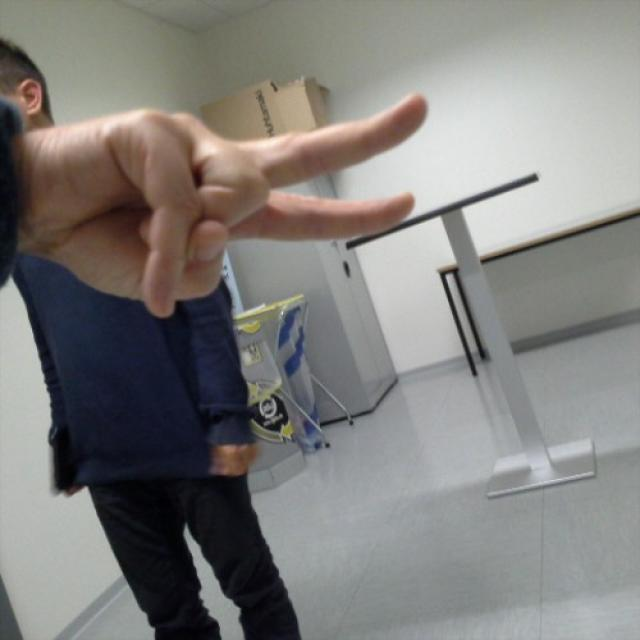scissors: (100, 88, 429, 317)
